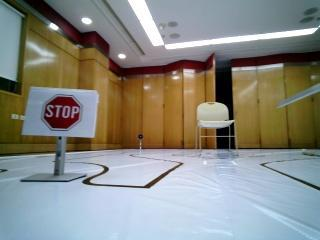stop: (34, 93, 94, 131)
